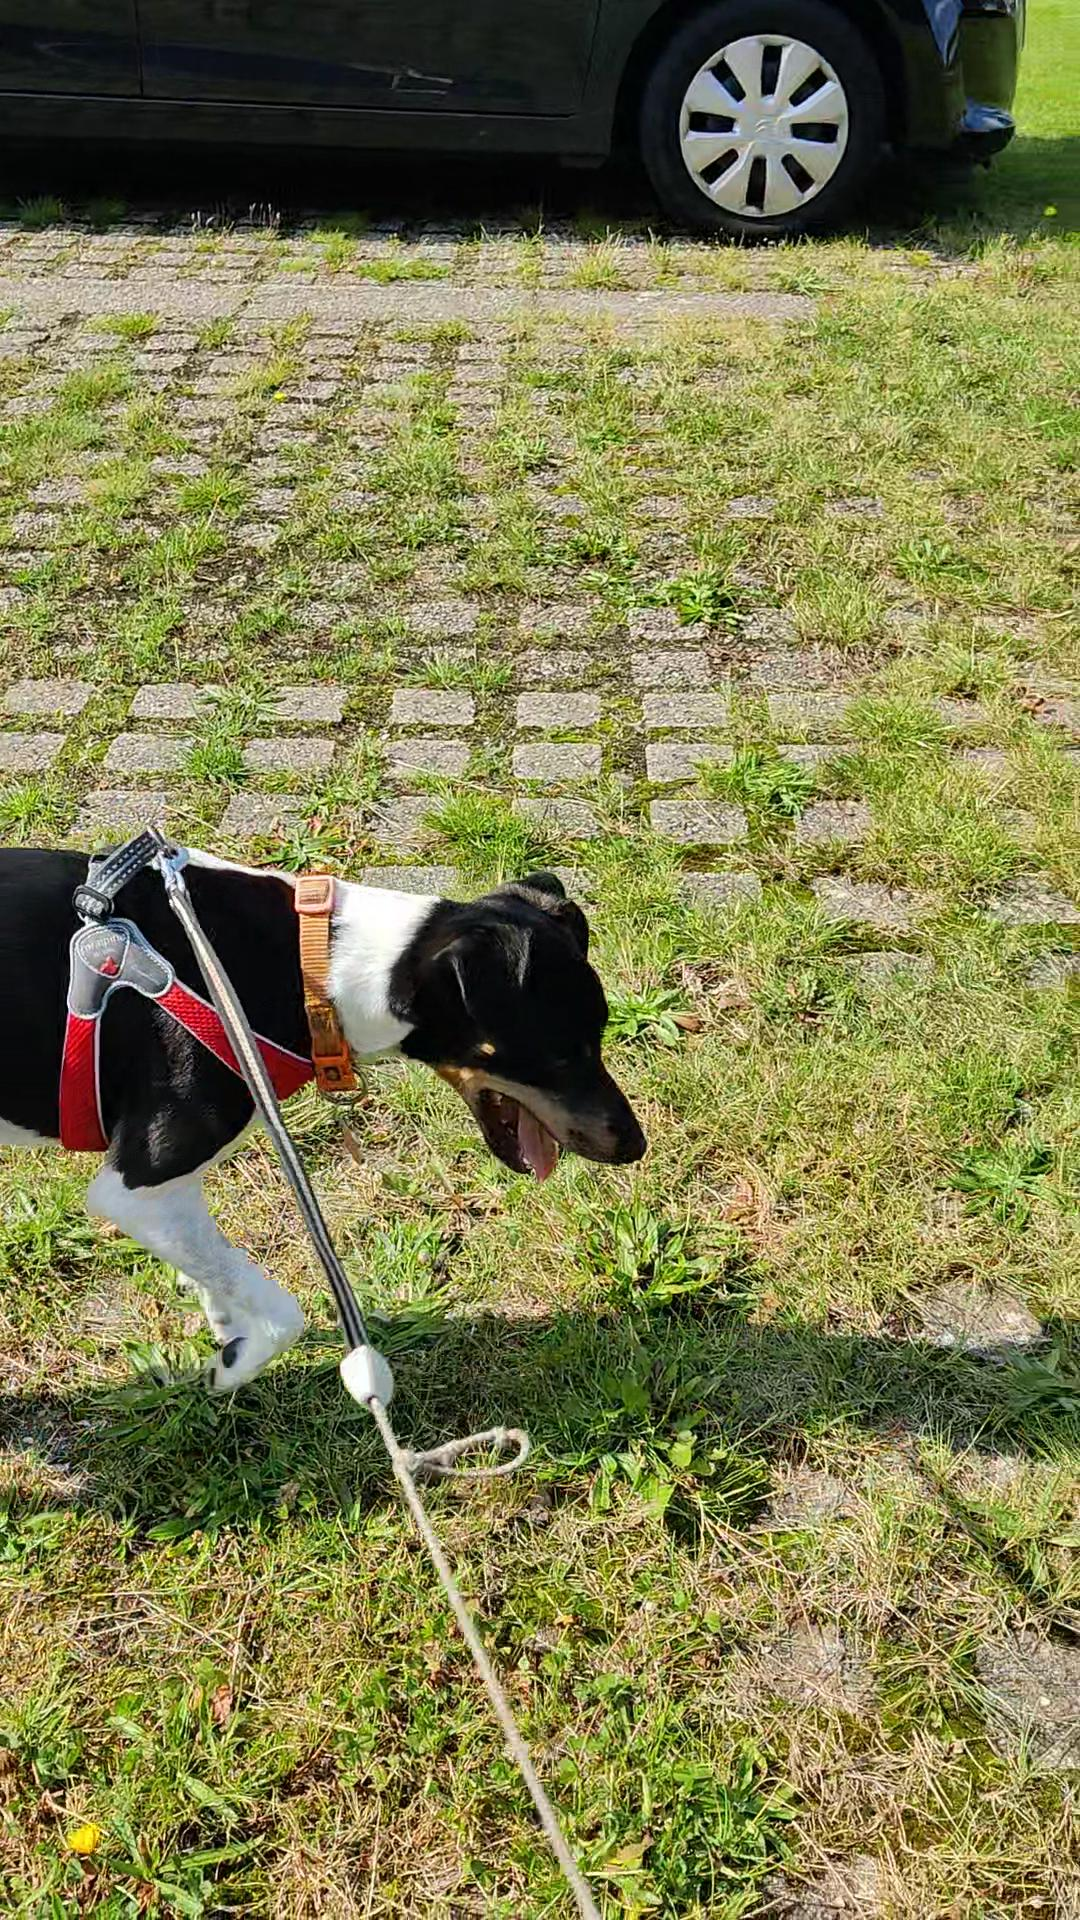Dog: (0, 832, 686, 1404)
